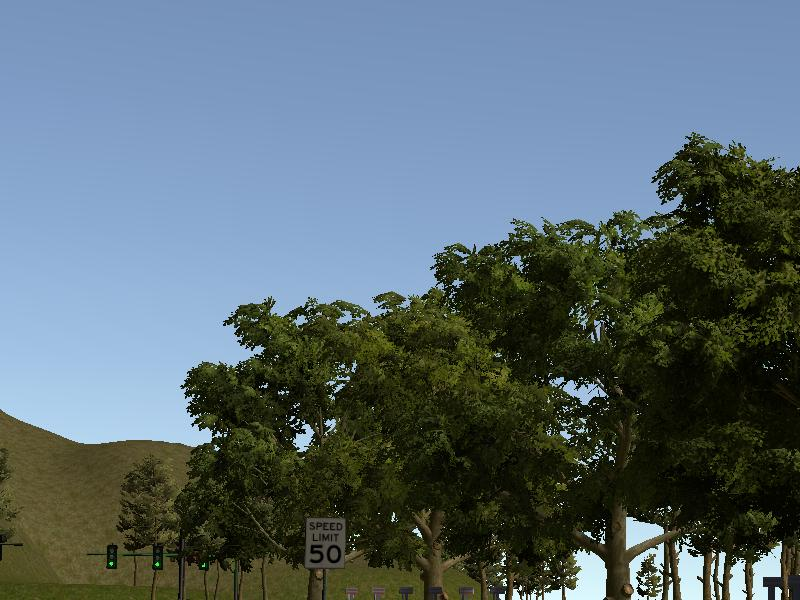Green: (108, 545, 118, 568), (153, 546, 162, 570)
